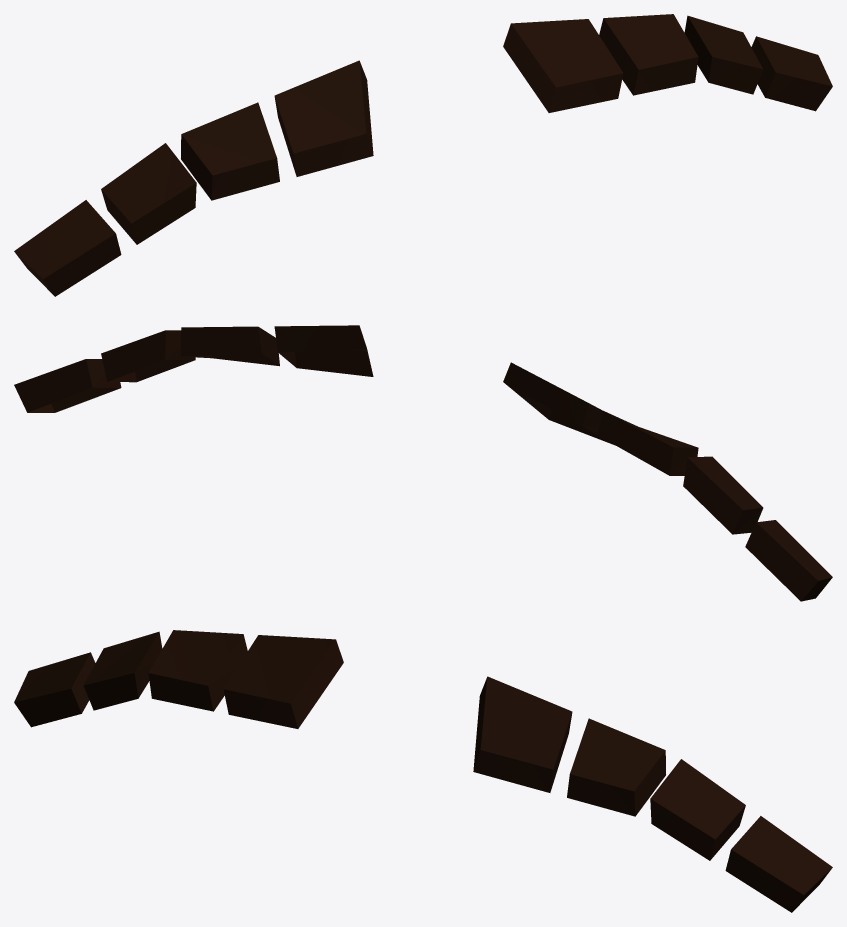
Rendered from Brow 13.FBX.
3 renders of one model, top to bottom at view 1: azimuth 30°, elevation 25°; view 2: azimuth 150°, elevation 25°; view 3: azimuth 330°, elevation 25°, orthographic.
Parts seen in each view (by area): view 1: Brow 13; view 2: Brow 13; view 3: Brow 13.
Part boxes in pixels (x1,y1,x2,y2): Brow 13: [14, 14, 832, 296]; Brow 13: [14, 325, 832, 601]; Brow 13: [14, 630, 832, 912].
Size of the model in its own units: 22.49 by 2.28 by 4.33.
